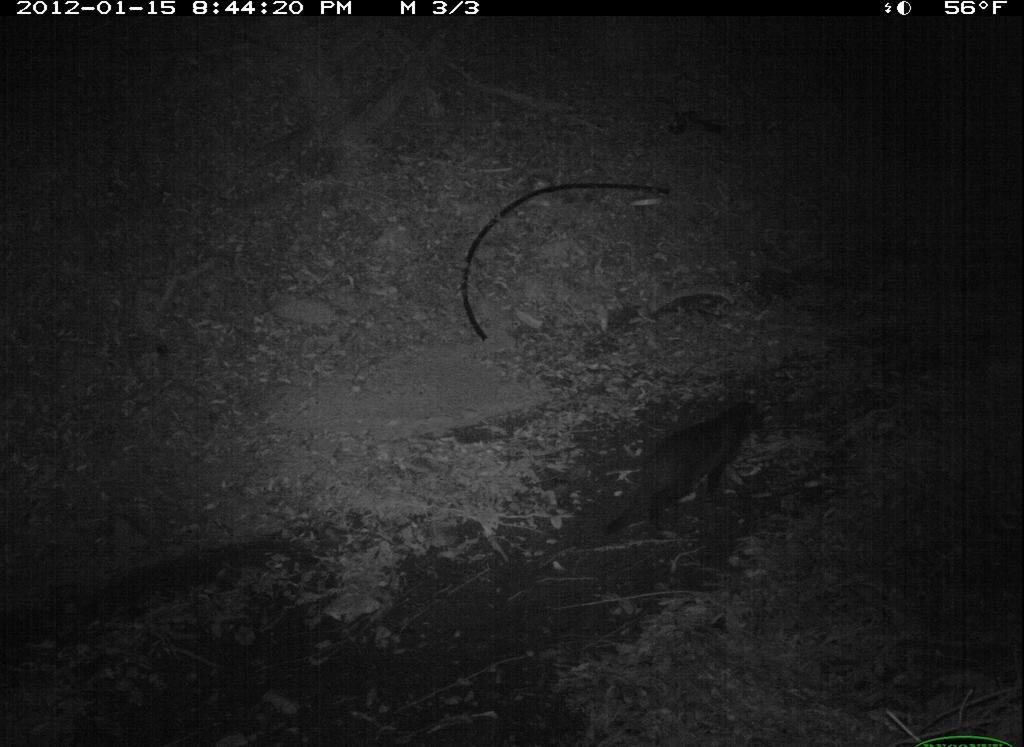cat: (602, 395, 779, 547)
